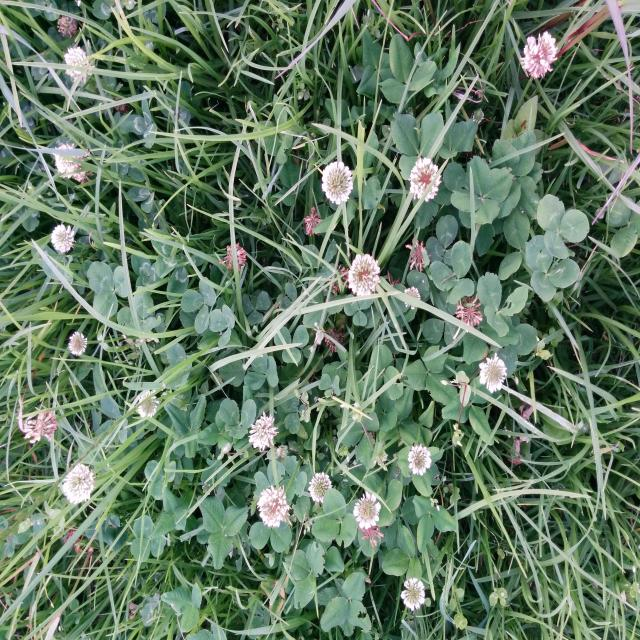Four Leaf Clover: (450, 156, 514, 224)
